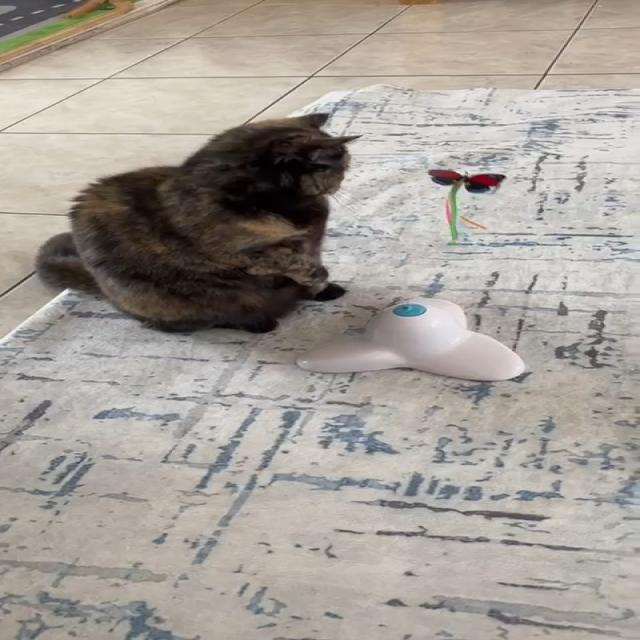authorized: (32, 112, 363, 334)
